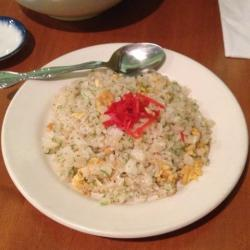rice: (49, 66, 217, 211)
